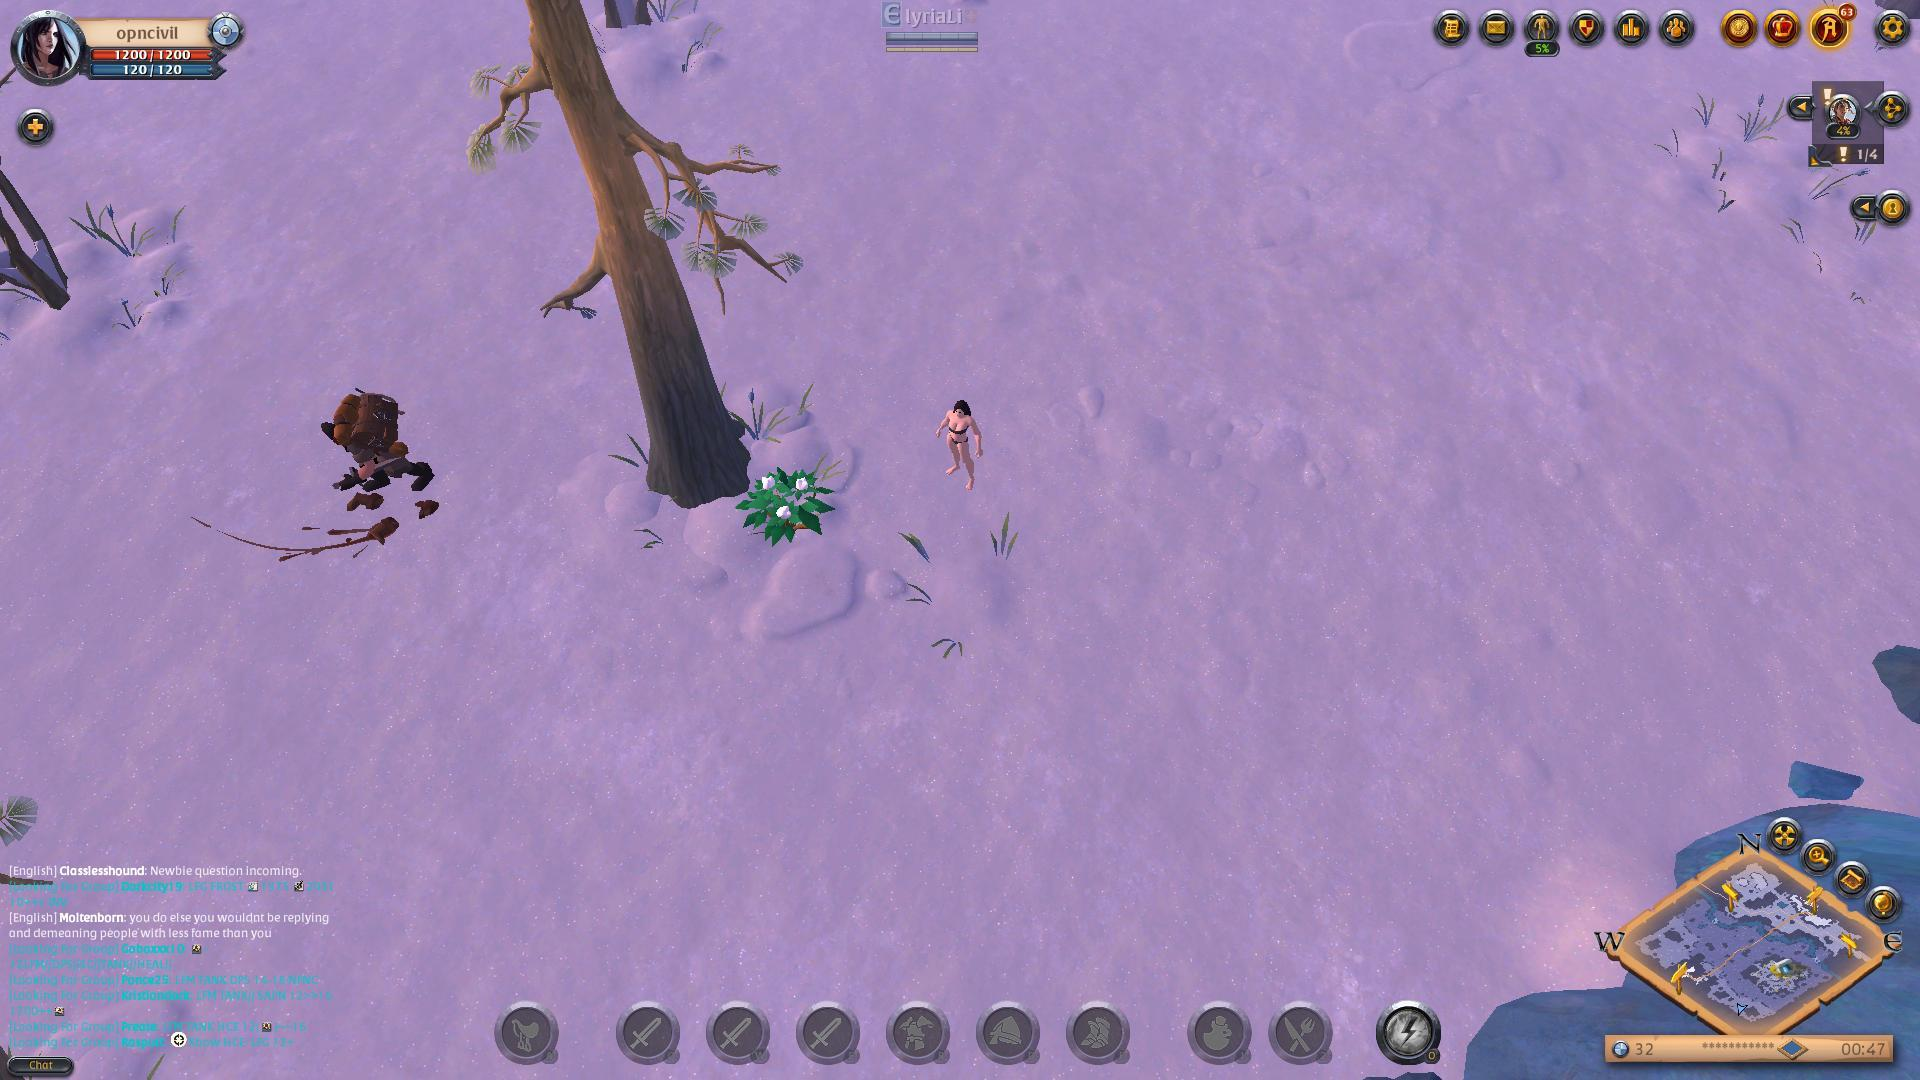copper_ore: (1875, 633, 1920, 717)
flax: (732, 460, 835, 549)
mob: (307, 378, 443, 502)
